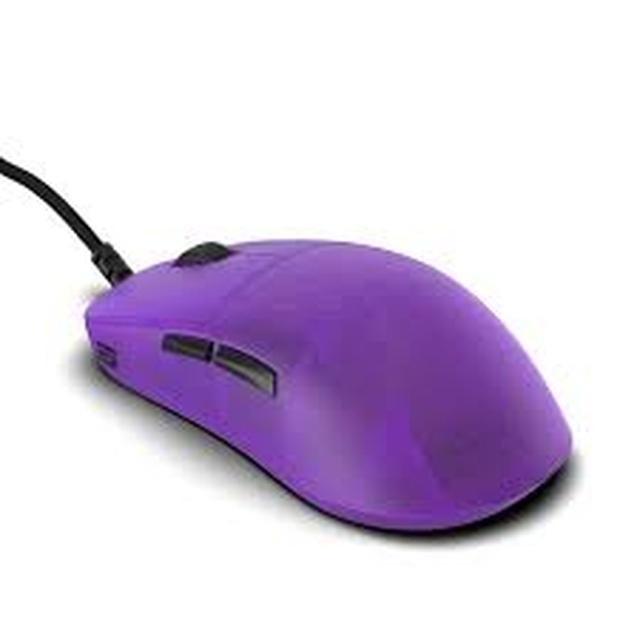mouse: (14, 232, 616, 554)
